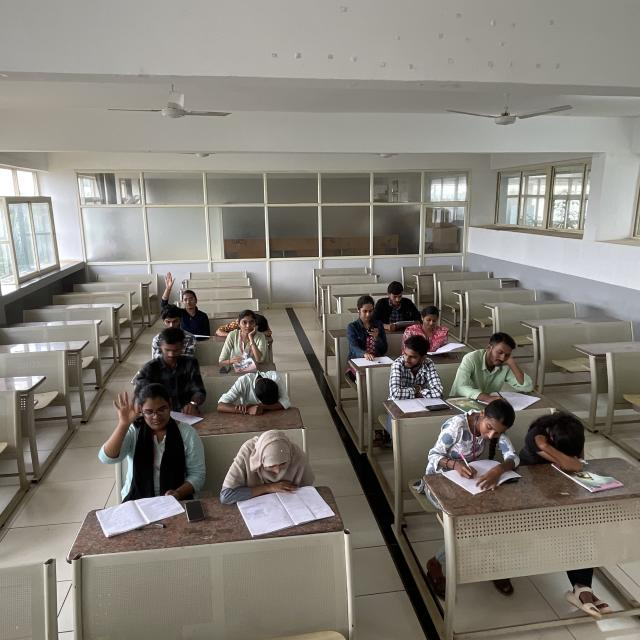Hand Rising: (96, 383, 208, 504), (159, 270, 206, 320)
Reading: (219, 429, 336, 537), (406, 305, 462, 354), (376, 280, 420, 328)
Sleeping: (214, 366, 302, 424), (521, 405, 594, 474)
Using Phone: (346, 295, 388, 363)
Writing: (431, 398, 526, 496), (133, 327, 206, 422), (459, 331, 534, 407)
